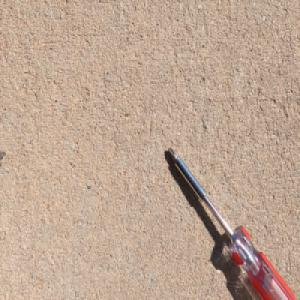Screwdriver: (166, 143, 297, 300)
